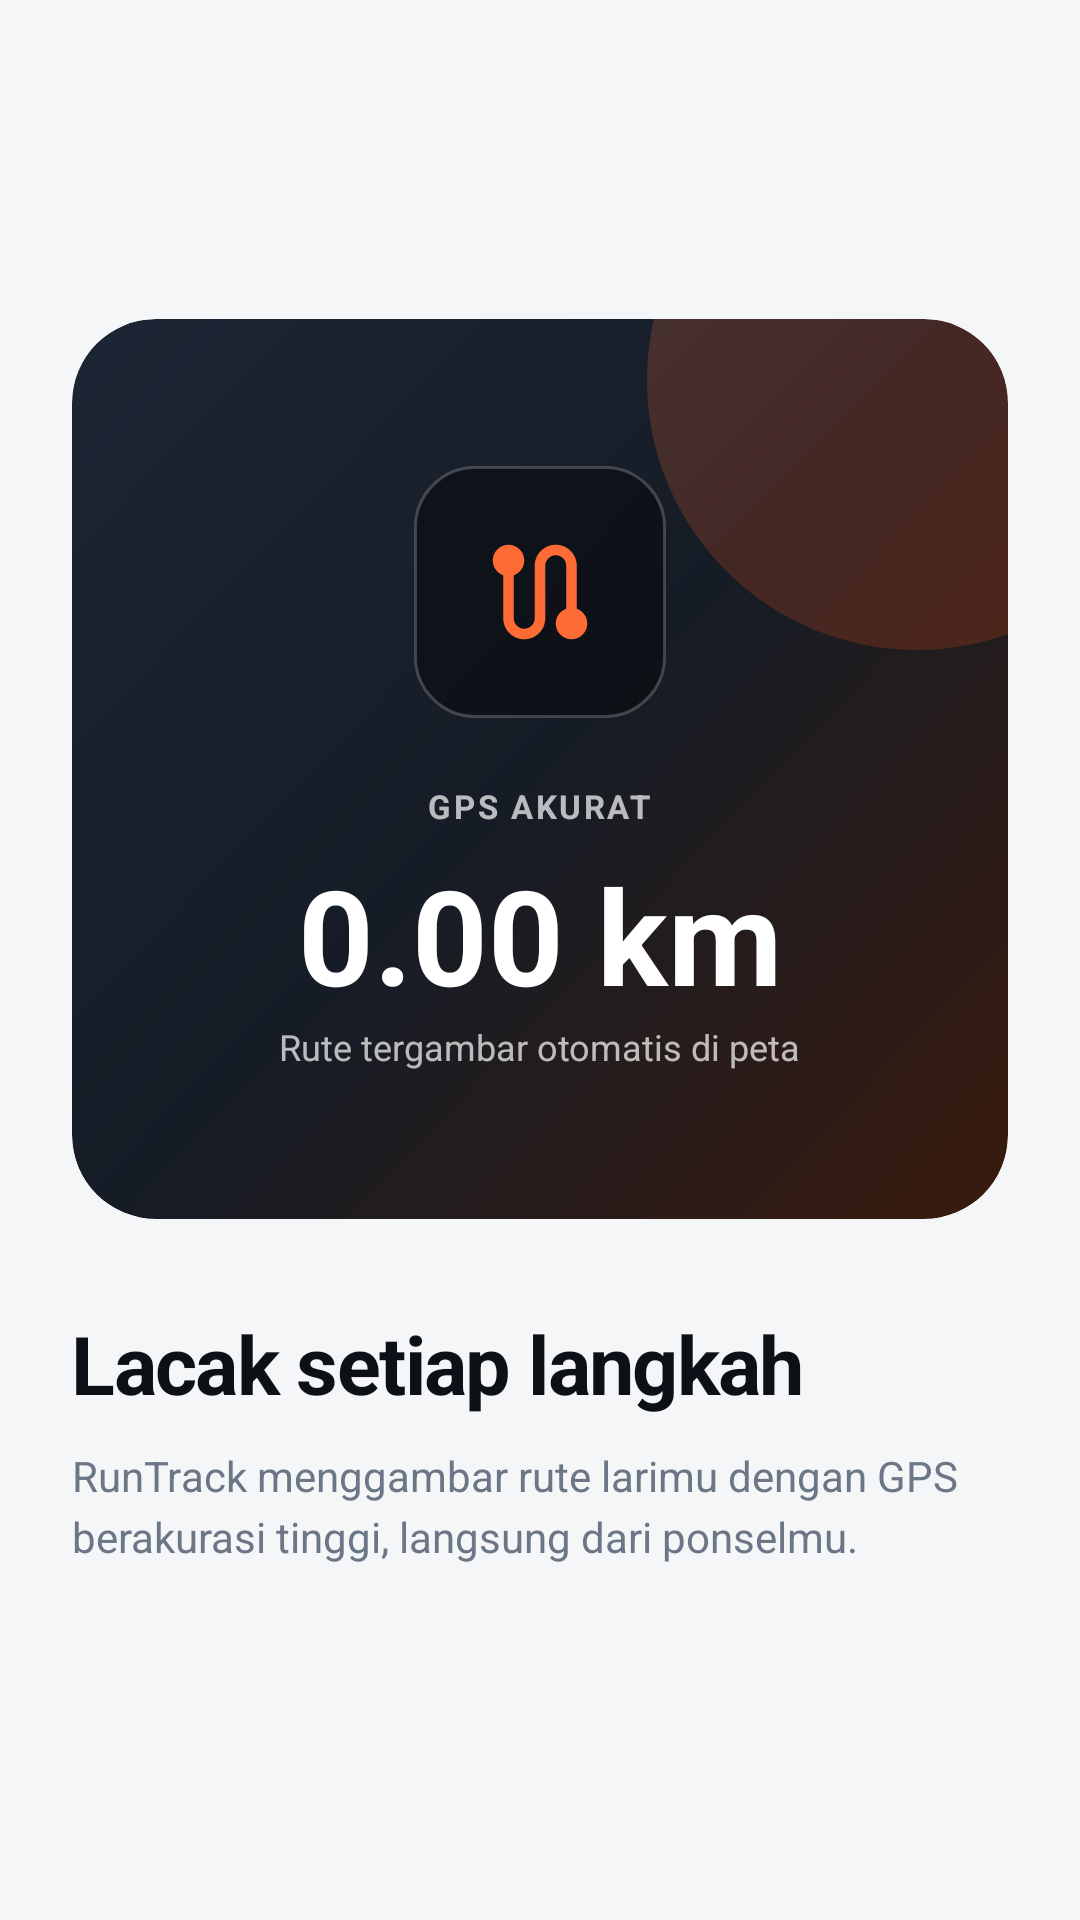

Icons on this 1080 × 1920 Android screen, each with its box as (x1, y1, x2, y2):
Rute GPS: (492, 544, 588, 640)
